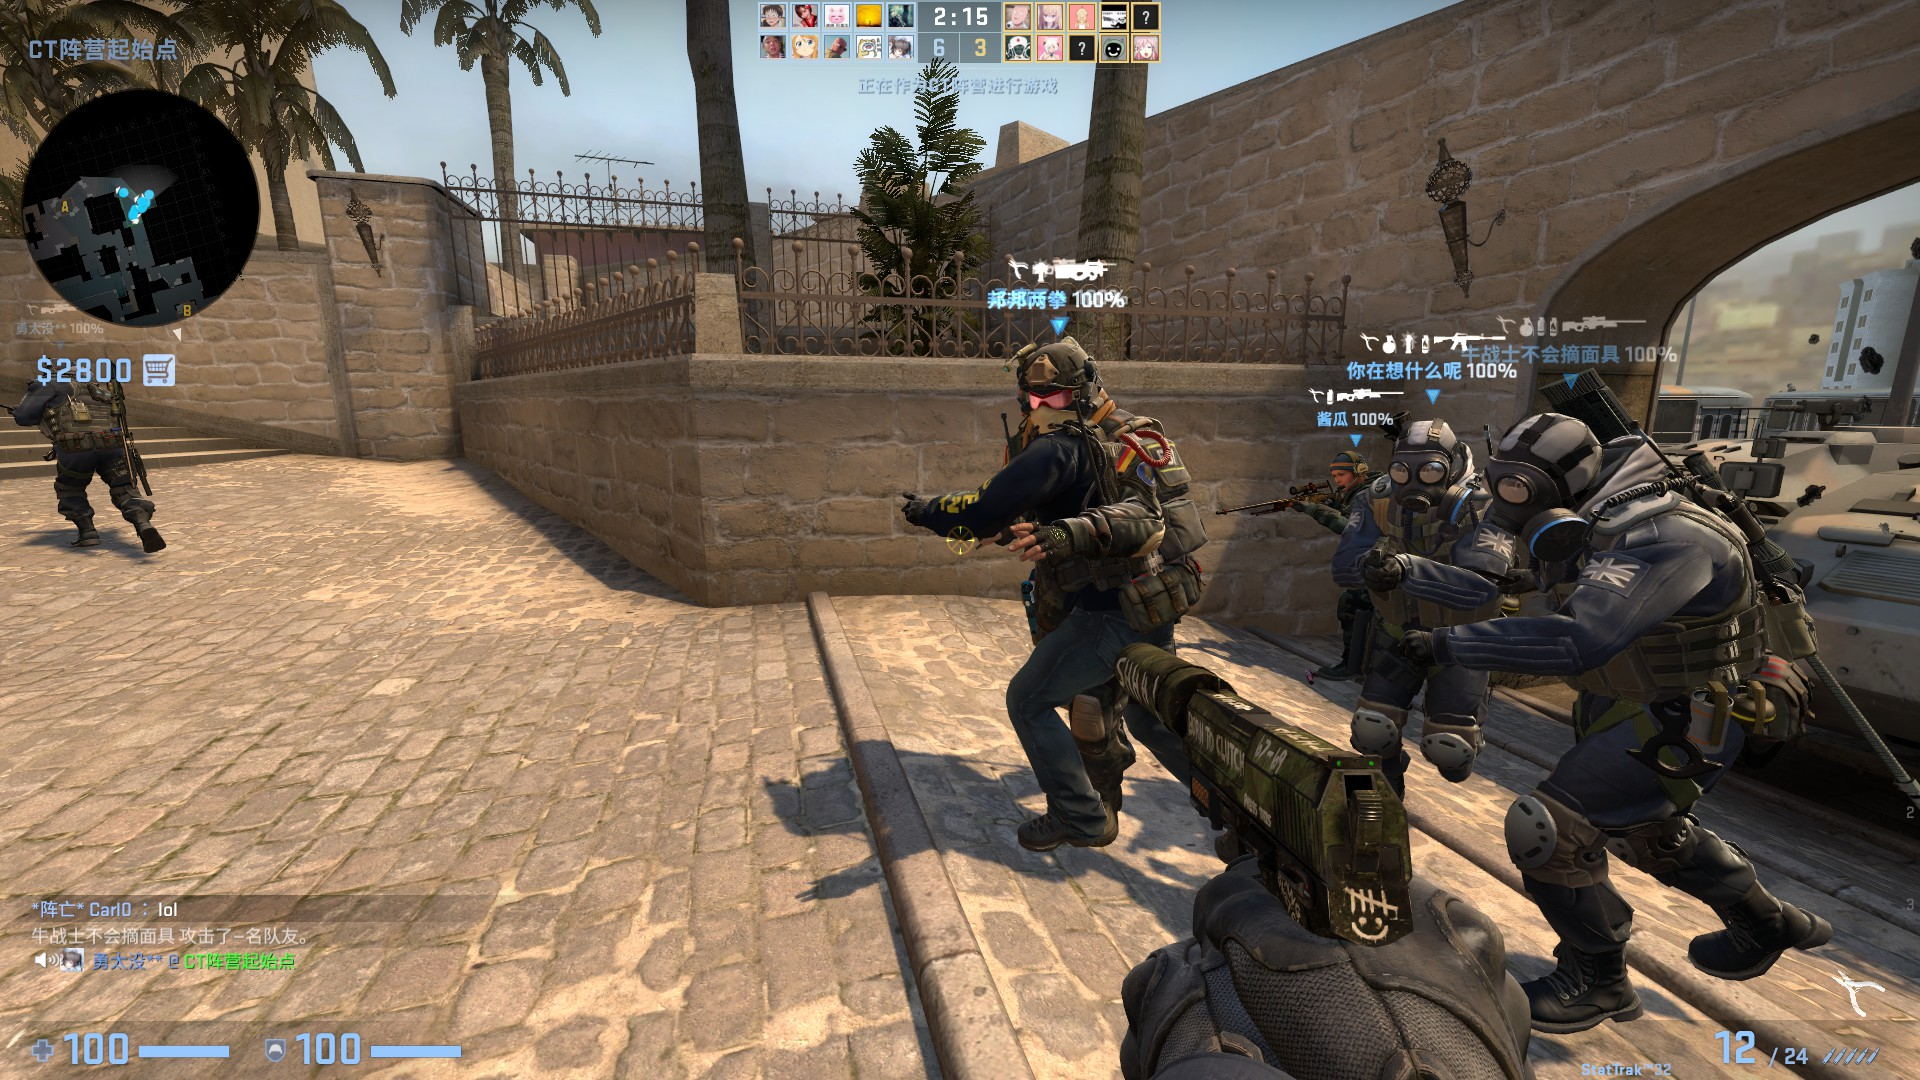head: (1484, 413, 1597, 542), (1006, 338, 1106, 434), (1390, 422, 1457, 511), (1325, 448, 1368, 490), (40, 354, 76, 376)
